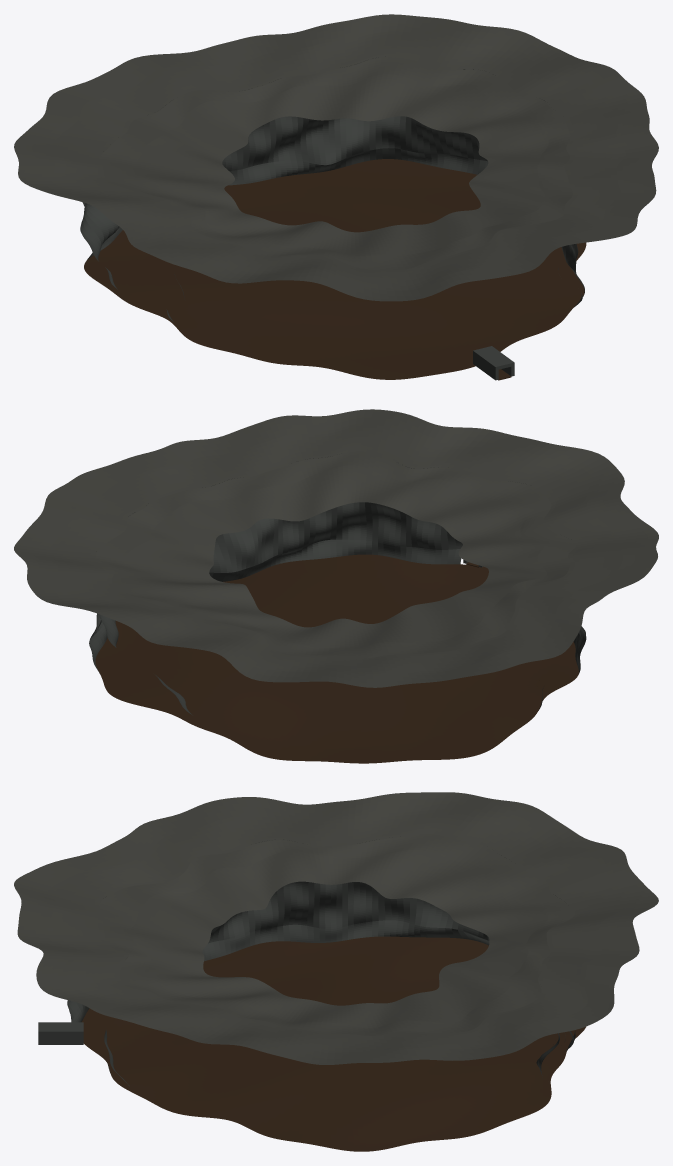
The picture shows the model from 3 angles, top to bottom: view 1: azimuth 30°, elevation 25°; view 2: azimuth 150°, elevation 25°; view 3: azimuth 270°, elevation 25°; orthographic projection. The views are drawn at different scales.
Visible parts, largest first — view 1: GreenPlaza_Ceiling, GreenPlaza_Ground, GreenPlaza_NaturalWalls, Entrance_Roof; view 2: GreenPlaza_Ceiling, GreenPlaza_Ground, GreenPlaza_NaturalWalls; view 3: GreenPlaza_Ceiling, GreenPlaza_Ground, GreenPlaza_NaturalWalls, Entrance_Roof.
Part boxes in pixels (<box>): GreenPlaza_Ceiling: <box>14,14,658,301</box>; GreenPlaza_Ground: <box>84,159,586,379</box>; GreenPlaza_NaturalWalls: <box>80,69,584,321</box>; Entrance_Roof: <box>473,346,514,370</box>; GreenPlaza_Ceiling: <box>14,409,658,687</box>; GreenPlaza_Ground: <box>95,554,578,763</box>; GreenPlaza_NaturalWalls: <box>89,458,586,715</box>; GreenPlaza_Ceiling: <box>14,792,658,1064</box>; GreenPlaza_Ground: <box>82,936,585,1151</box>; GreenPlaza_NaturalWalls: <box>67,839,575,1086</box>; Entrance_Roof: <box>38,1022,83,1034</box>.
Bounding box in the file's own units: 526 × 110 × 525.
